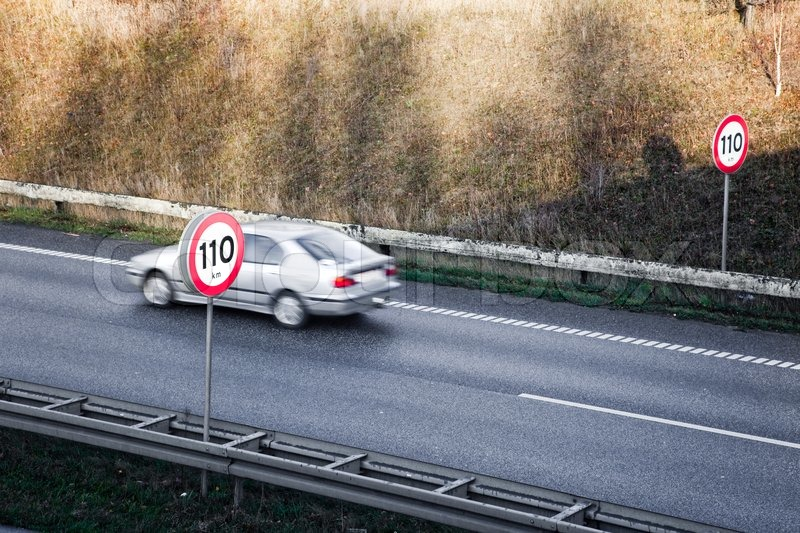Speed_limit_110km: (188, 211, 244, 298), (712, 113, 750, 175)
